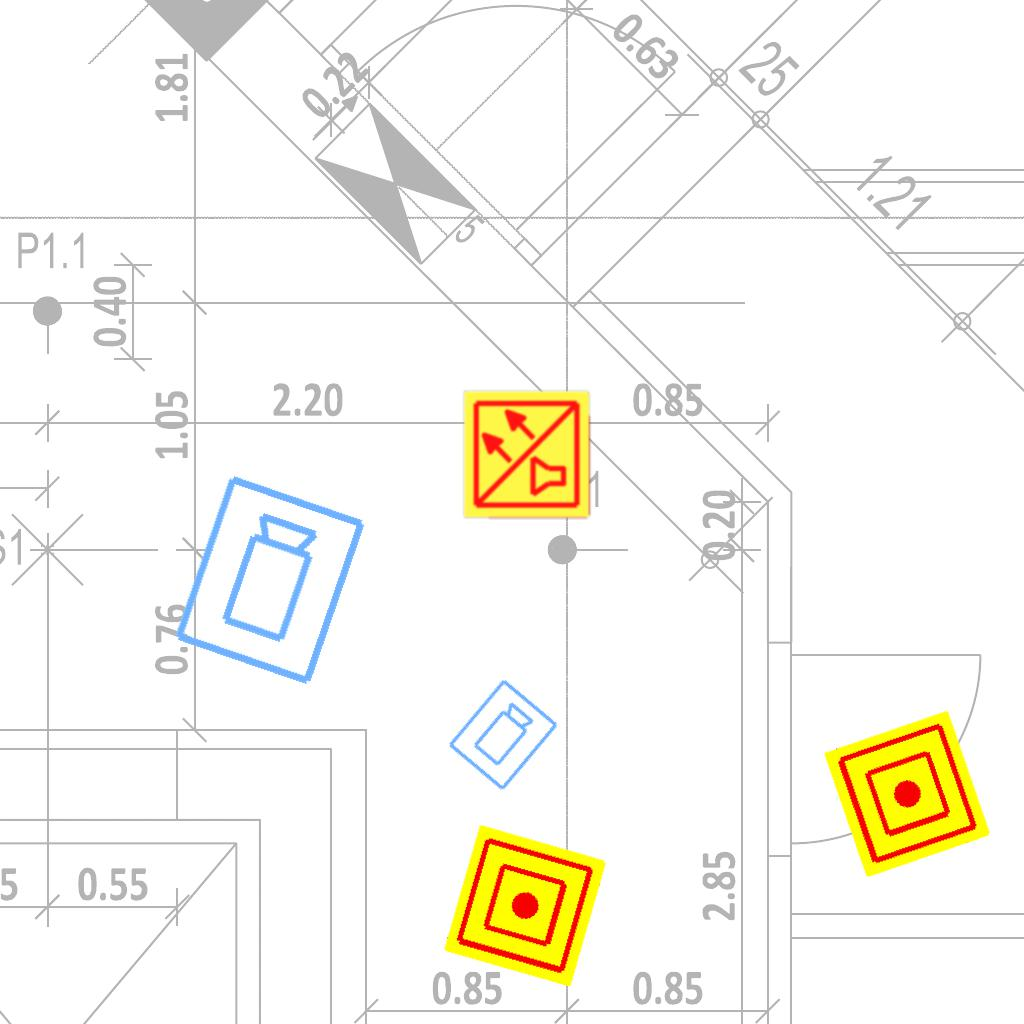KFO_Kamera_mit_Festobjektiv: (168, 469, 374, 693), (444, 675, 563, 796)
NAM-Nichtautomatischer_Melder: (823, 710, 991, 878), (443, 824, 607, 988)
OKW_Multisensormelder_(Kombination_optischer_Rauch-Kahlenmonoxid_Waerme-Melder): (461, 388, 593, 520)
